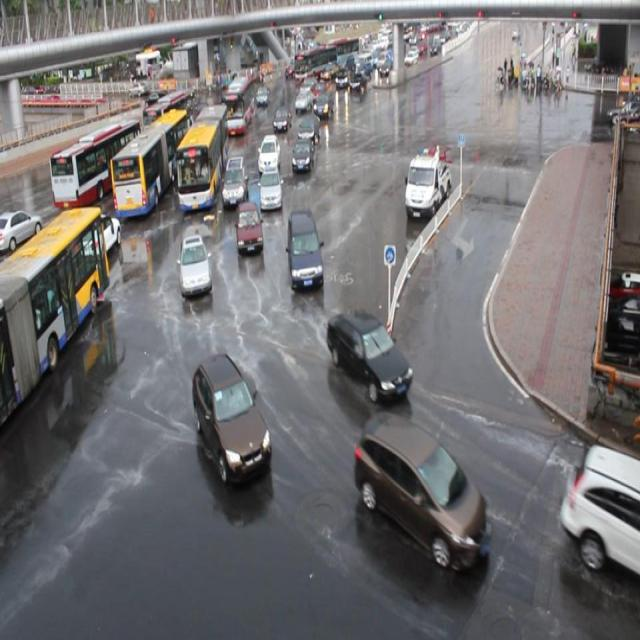bus: (402, 150, 452, 214)
car: (354, 407, 491, 573), (562, 442, 640, 582), (193, 352, 274, 486), (327, 305, 412, 397), (287, 208, 324, 292), (177, 232, 211, 296), (80, 214, 122, 264), (1, 205, 43, 251), (236, 199, 263, 254), (224, 157, 247, 203), (260, 168, 282, 212), (255, 133, 278, 169), (291, 134, 312, 173), (294, 80, 314, 114), (312, 90, 335, 117), (296, 114, 318, 141), (270, 104, 288, 132), (257, 84, 268, 104)
van: (1, 206, 110, 427), (108, 106, 191, 220), (46, 118, 143, 208), (178, 100, 230, 214), (224, 70, 258, 140), (143, 94, 197, 138)
